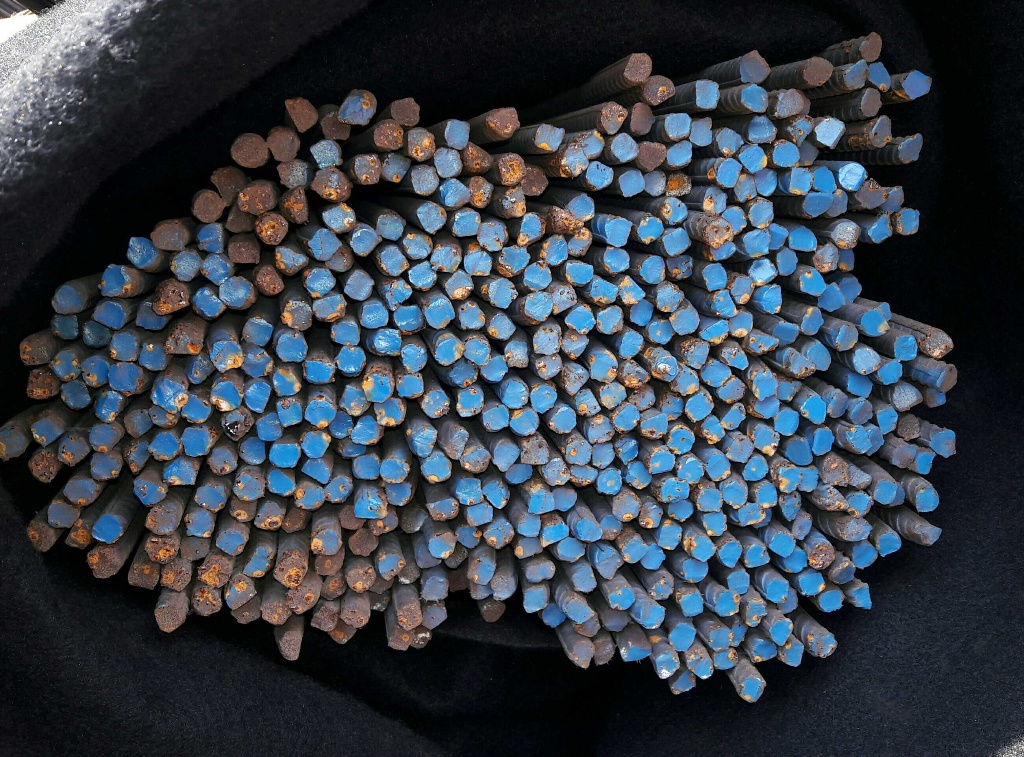dipstick: (230, 134, 269, 169), (211, 167, 248, 203), (312, 166, 349, 202), (737, 49, 770, 84), (108, 362, 142, 395), (281, 184, 309, 224), (154, 282, 188, 314), (238, 185, 275, 214), (283, 97, 315, 130), (273, 245, 308, 275), (151, 222, 187, 251), (487, 107, 521, 137), (145, 535, 181, 563), (59, 379, 91, 410), (416, 201, 447, 233), (269, 128, 299, 161), (181, 426, 211, 459), (899, 69, 932, 99), (860, 116, 893, 146), (379, 244, 408, 278), (533, 322, 561, 357), (318, 203, 354, 230), (168, 250, 199, 281), (126, 236, 157, 267), (463, 142, 494, 173), (220, 409, 252, 439), (433, 146, 462, 179), (409, 162, 438, 195), (520, 164, 548, 198), (1, 422, 26, 460), (272, 625, 299, 660), (191, 286, 222, 316), (153, 380, 183, 411), (350, 153, 380, 184), (802, 56, 832, 87), (856, 179, 887, 209), (276, 332, 308, 361), (23, 519, 52, 551), (424, 386, 449, 423), (383, 276, 411, 309), (166, 325, 199, 353), (194, 483, 227, 511), (565, 305, 598, 333), (182, 511, 216, 538), (408, 127, 435, 161), (888, 383, 923, 409), (396, 304, 426, 334), (95, 298, 125, 328), (301, 427, 331, 457), (522, 290, 552, 320), (212, 341, 243, 370), (59, 435, 88, 466), (132, 476, 163, 505), (152, 605, 183, 634), (595, 548, 624, 579), (645, 75, 674, 106), (814, 118, 845, 147), (307, 229, 339, 257), (372, 325, 400, 357), (209, 382, 241, 410), (350, 226, 377, 259), (50, 284, 83, 311), (693, 78, 720, 111), (467, 175, 493, 209), (257, 213, 286, 243), (92, 515, 122, 544), (304, 400, 334, 429), (293, 481, 323, 510), (390, 97, 420, 126), (431, 244, 461, 273), (501, 245, 530, 275), (541, 236, 570, 266), (659, 196, 689, 225), (924, 329, 954, 358), (320, 111, 351, 139), (191, 192, 222, 220), (306, 267, 337, 295), (375, 210, 403, 241), (360, 299, 388, 330), (30, 416, 61, 444), (29, 450, 57, 481), (128, 562, 159, 590), (199, 557, 230, 585), (226, 576, 257, 604), (372, 121, 403, 149), (519, 213, 547, 244), (509, 408, 540, 436), (343, 94, 370, 126), (276, 160, 308, 187), (426, 453, 453, 485), (228, 237, 261, 263), (62, 480, 95, 506), (782, 350, 815, 376), (219, 277, 248, 306), (90, 450, 119, 479), (151, 432, 180, 461), (600, 246, 629, 275), (620, 360, 649, 389), (313, 296, 348, 320), (235, 471, 265, 499), (365, 373, 393, 403), (496, 155, 526, 183), (487, 279, 517, 307), (488, 312, 518, 340), (523, 262, 553, 290), (572, 387, 600, 417), (657, 477, 692, 501), (559, 145, 587, 175), (702, 359, 732, 387), (382, 153, 409, 184), (706, 450, 733, 481), (866, 60, 892, 92), (399, 233, 432, 258), (201, 254, 229, 283), (99, 266, 128, 294), (282, 300, 311, 328), (51, 312, 80, 340), (87, 547, 115, 576), (207, 446, 236, 474), (340, 385, 368, 414), (446, 270, 474, 299), (535, 123, 563, 152), (610, 134, 639, 162), (663, 227, 692, 255), (845, 370, 874, 398), (270, 366, 300, 393), (82, 357, 109, 387), (46, 501, 76, 528), (268, 468, 295, 498), (275, 555, 302, 585), (427, 300, 454, 330), (619, 330, 646, 360), (485, 524, 515, 551), (538, 459, 568, 486), (677, 453, 704, 483), (611, 492, 638, 522), (304, 358, 335, 384), (18, 338, 49, 364), (163, 459, 194, 485), (278, 395, 304, 426), (600, 102, 626, 133), (745, 333, 780, 356), (145, 508, 177, 533), (246, 546, 271, 578), (412, 426, 437, 458), (688, 115, 713, 147), (807, 340, 831, 373), (197, 224, 225, 252), (344, 270, 372, 298), (348, 528, 376, 556), (589, 277, 617, 305), (646, 446, 674, 474), (855, 87, 883, 115), (742, 84, 770, 112), (858, 309, 886, 337), (312, 138, 339, 167), (243, 316, 270, 345), (138, 303, 167, 330), (106, 333, 135, 360), (159, 563, 188, 590), (421, 575, 450, 602), (451, 209, 480, 236), (463, 250, 492, 277), (433, 339, 462, 366), (604, 218, 631, 247), (587, 354, 616, 381), (722, 479, 749, 508), (639, 140, 666, 169), (783, 436, 812, 463), (806, 541, 835, 568), (139, 343, 165, 373), (93, 389, 119, 419), (122, 409, 152, 435), (373, 398, 403, 424), (409, 261, 435, 291), (613, 403, 639, 433), (665, 428, 695, 454), (694, 486, 724, 512), (655, 283, 685, 309), (749, 374, 779, 400), (26, 369, 57, 394), (257, 501, 282, 532), (355, 414, 380, 445), (429, 498, 460, 523), (698, 511, 729, 536), (258, 601, 290, 625), (746, 115, 778, 139), (327, 321, 360, 344), (353, 495, 386, 518), (255, 265, 282, 293), (244, 348, 271, 376), (352, 455, 379, 483), (441, 179, 468, 207), (477, 222, 505, 249), (618, 276, 645, 304), (456, 388, 483, 416), (492, 442, 520, 469), (564, 440, 592, 467), (672, 369, 699, 397), (623, 462, 650, 490), (740, 145, 768, 172), (838, 163, 866, 190), (337, 346, 363, 375), (401, 343, 427, 372), (455, 477, 484, 503), (578, 131, 604, 160), (801, 395, 827, 424), (184, 393, 209, 423), (244, 382, 269, 412), (88, 425, 118, 450), (349, 565, 374, 595), (397, 373, 422, 403), (670, 309, 700, 334), (707, 218, 732, 248), (565, 262, 596, 286), (637, 414, 668, 438), (748, 259, 779, 283), (447, 427, 468, 462), (500, 188, 527, 215), (569, 194, 596, 221), (458, 302, 485, 329), (551, 285, 578, 312), (561, 330, 588, 357), (502, 381, 529, 408), (685, 393, 712, 420), (664, 113, 691, 140), (194, 588, 220, 616), (302, 457, 330, 483), (504, 341, 530, 369), (453, 361, 481, 387), (531, 384, 557, 412), (484, 481, 510, 509), (636, 543, 664, 569), (853, 348, 881, 374), (844, 426, 870, 454), (850, 542, 878, 568), (287, 584, 312, 613), (444, 118, 469, 147), (553, 210, 582, 235), (598, 384, 627, 409), (700, 415, 725, 444), (843, 60, 868, 89), (897, 134, 922, 163), (714, 128, 743, 153), (745, 228, 770, 257), (833, 322, 858, 351), (822, 458, 847, 487), (380, 459, 410, 483), (558, 537, 588, 561), (563, 596, 593, 620), (665, 256, 695, 280), (531, 356, 562, 379), (629, 103, 652, 134), (761, 285, 784, 316), (178, 537, 210, 559), (460, 449, 492, 471), (596, 307, 623, 333), (589, 442, 615, 469), (659, 394, 686, 420), (670, 667, 696, 694), (776, 89, 803, 115), (52, 352, 80, 377), (217, 528, 242, 556), (257, 412, 282, 440), (596, 469, 621, 497), (574, 517, 602, 542), (638, 217, 663, 245), (642, 255, 667, 283), (716, 157, 741, 185), (788, 166, 813, 194), (869, 213, 894, 241), (789, 226, 817, 251), (832, 222, 860, 247), (931, 429, 956, 457), (270, 442, 299, 466), (341, 603, 370, 627), (587, 419, 616, 443), (685, 535, 714, 559), (526, 560, 555, 584), (775, 248, 799, 277), (231, 601, 261, 624), (480, 407, 510, 430), (814, 243, 837, 273), (226, 205, 252, 231), (311, 604, 337, 630), (563, 368, 589, 394), (551, 487, 577, 513), (586, 162, 612, 188), (799, 269, 825, 295), (893, 335, 919, 361), (240, 436, 265, 463), (466, 337, 491, 364), (549, 407, 576, 432), (640, 603, 665, 630), (682, 559, 709, 584), (670, 623, 695, 650), (741, 676, 766, 703), (749, 199, 774, 226), (683, 342, 708, 369), (188, 354, 212, 382), (370, 510, 398, 534), (423, 603, 447, 631), (522, 440, 550, 464), (605, 586, 633, 610), (598, 609, 630, 630), (715, 590, 739, 618), (629, 53, 650, 85), (826, 392, 850, 420), (755, 167, 778, 196), (803, 191, 832, 214), (860, 32, 882, 62), (841, 518, 871, 540), (82, 320, 107, 346), (315, 550, 340, 576), (628, 300, 653, 326), (468, 558, 493, 584), (667, 140, 692, 166), (722, 207, 748, 232), (876, 361, 902, 386), (150, 405, 177, 429), (325, 476, 349, 503), (454, 525, 481, 549), (521, 586, 548, 610), (573, 566, 597, 593), (677, 592, 704, 616), (773, 141, 800, 165), (702, 185, 726, 212), (820, 488, 847, 512), (528, 492, 556, 515), (717, 539, 740, 567), (515, 537, 543, 560), (571, 641, 594, 669), (791, 114, 814, 142), (820, 283, 843, 311), (721, 346, 749, 369), (311, 531, 340, 553), (567, 464, 596, 486), (813, 427, 835, 456), (127, 442, 148, 472), (332, 410, 353, 440), (622, 536, 647, 561), (648, 576, 673, 601), (688, 654, 713, 679), (619, 170, 644, 195), (728, 311, 753, 336), (774, 320, 799, 345), (327, 244, 351, 270), (399, 507, 423, 533), (630, 385, 654, 411), (647, 321, 673, 345), (813, 166, 837, 192), (702, 264, 728, 288), (775, 409, 799, 435), (914, 488, 938, 514), (896, 208, 919, 235), (800, 307, 823, 334), (775, 467, 798, 494), (542, 522, 570, 544), (700, 321, 728, 343), (718, 378, 746, 400), (937, 366, 959, 394), (798, 572, 826, 594), (338, 436, 367, 457), (465, 504, 494, 525), (660, 521, 681, 550), (66, 524, 91, 548), (517, 513, 541, 538), (615, 437, 639, 462), (752, 639, 776, 664), (771, 531, 795, 556), (743, 456, 767, 481), (667, 171, 691, 196), (754, 430, 779, 454), (232, 495, 255, 521), (398, 602, 421, 628), (639, 502, 662, 528), (479, 600, 505, 623), (735, 173, 758, 199), (722, 404, 745, 430), (897, 414, 920, 440), (482, 360, 509, 382), (745, 599, 767, 626), (829, 563, 856, 585), (811, 635, 838, 657), (572, 229, 593, 257), (655, 356, 676, 384), (732, 276, 753, 304), (540, 603, 564, 627), (744, 543, 769, 566), (753, 484, 778, 507), (728, 437, 751, 462), (838, 276, 861, 301), (431, 533, 453, 559), (771, 618, 793, 644), (737, 503, 763, 525), (592, 639, 613, 666), (885, 185, 905, 213), (767, 222, 787, 250), (778, 379, 801, 403), (385, 483, 410, 505), (492, 575, 514, 600), (655, 654, 677, 679), (715, 291, 737, 316), (853, 585, 875, 610), (752, 397, 778, 418), (287, 507, 307, 534), (505, 464, 532, 484), (876, 407, 896, 434), (777, 491, 797, 518), (378, 556, 401, 579), (418, 544, 441, 567), (388, 628, 412, 650), (765, 578, 787, 602), (621, 646, 652, 663), (341, 503, 362, 528), (323, 574, 344, 599), (668, 500, 693, 521), (575, 614, 600, 635), (712, 648, 737, 669), (601, 515, 621, 541), (779, 587, 798, 614), (646, 170, 665, 197), (728, 570, 751, 592), (851, 400, 873, 423), (892, 445, 914, 468), (332, 619, 353, 643), (796, 468, 817, 492), (790, 513, 808, 541), (849, 492, 870, 516), (797, 140, 817, 165), (818, 591, 843, 611), (709, 629, 735, 648), (783, 642, 802, 668), (827, 189, 846, 215), (917, 527, 943, 546), (370, 573, 393, 594), (786, 549, 807, 572), (876, 533, 899, 554), (874, 479, 894, 503), (710, 241, 738, 258), (450, 569, 470, 592), (412, 626, 431, 650), (836, 246, 854, 271), (399, 562, 418, 584), (451, 543, 468, 567), (467, 583, 492, 599), (851, 469, 870, 489), (370, 590, 387, 612), (926, 388, 946, 406), (755, 508, 772, 529), (732, 621, 744, 649), (867, 426, 878, 456), (917, 450, 930, 475), (892, 482, 904, 508), (879, 301, 894, 321)
